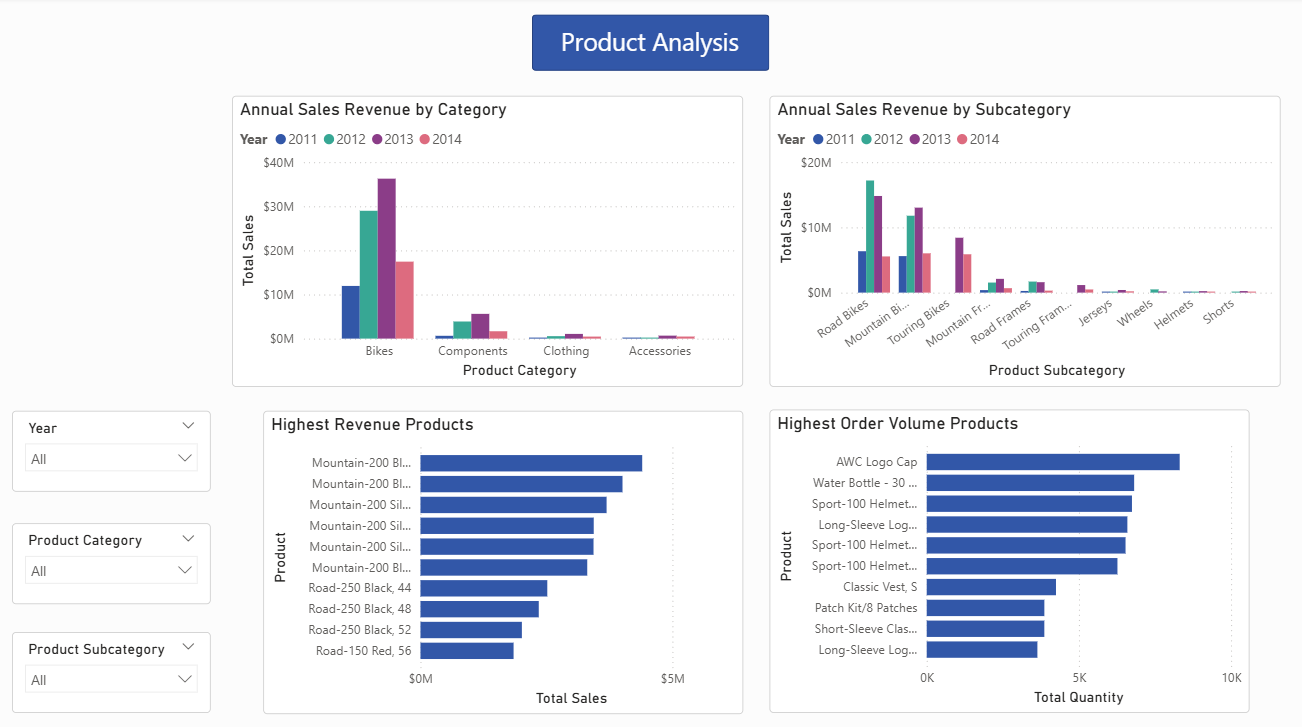

The dashboard page shown, as its layout file describes it:
{"tool":"powerbi","page":{"name":"Product & Category Analysis","canvas":[1280,720],"ordinal":1},"visuals":[{"type":"clusteredColumnChart","title":"Annual Sales Revenue by Category","fields":{"Category":["DimProduct.ProductCategory"],"Y":["FactSales.Total Sales"],"Series":["DimDate.Year"]},"box":[229.9,96.6,500.1,284.9],"z":0},{"type":"clusteredColumnChart","title":"Annual Sales Revenue by Subcategory","fields":{"Category":["DimProduct.ProductSubcategory"],"Y":["FactSales.Total Sales"],"Series":["DimDate.Year"]},"box":[755.7,96.6,500.1,284.9],"z":1000},{"type":"slicer","fields":{"Values":["DimDate.Year"]},"box":[14.7,404.8,194.4,79.5],"z":2000},{"type":"slicer","fields":{"Values":["DimProduct.ProductSubcategory"]},"box":[14.7,621.2,194.4,79.5],"z":3000},{"type":"slicer","fields":{"Values":["DimProduct.ProductCategory"]},"box":[14.7,514.8,194.4,79.5],"z":4000},{"type":"clusteredBarChart","title":"Highest Revenue Products","fields":{"Y":["FactSales.Total Sales"],"Category":["DimProduct.ProductName"]},"box":[260.5,404.8,469.6,297.1],"z":5000},{"type":"clusteredBarChart","title":"Highest Order Volume Products","fields":{"Category":["DimProduct.ProductName"],"Y":["FactSales.Total Quantity"]},"box":[755.7,403.5,469.6,297.1],"z":6000},{"type":"shape","box":[523.4,17.1,232.3,55],"z":7000,"group":"g1"},{"type":"textbox","box":[546.6,22,187.1,46.5],"z":8000,"group":"g1"},{"type":"group","id":"g1","title":"Group 1","box":[523.4,17.1,232.3,55],"z":8001}]}

Visuals, with their boxes in screenshot pixels (x1, y1, x2, y2), scaled from the page's 1280x720 canvas onto the 1302x727 screenshot:
"Annual Sales Revenue by Category" clusteredColumnChart: {"left": 234, "top": 98, "right": 743, "bottom": 385}
"Annual Sales Revenue by Subcategory" clusteredColumnChart: {"left": 769, "top": 98, "right": 1277, "bottom": 385}
slicer - DimDate.Year: {"left": 15, "top": 409, "right": 213, "bottom": 489}
slicer - DimProduct.ProductSubcategory: {"left": 15, "top": 627, "right": 213, "bottom": 708}
slicer - DimProduct.ProductCategory: {"left": 15, "top": 520, "right": 213, "bottom": 600}
"Highest Revenue Products" clusteredBarChart: {"left": 265, "top": 409, "right": 743, "bottom": 709}
"Highest Order Volume Products" clusteredBarChart: {"left": 769, "top": 407, "right": 1246, "bottom": 707}
shape: {"left": 532, "top": 17, "right": 769, "bottom": 73}
textbox: {"left": 556, "top": 22, "right": 746, "bottom": 69}
"Group 1" group: {"left": 532, "top": 17, "right": 769, "bottom": 73}
